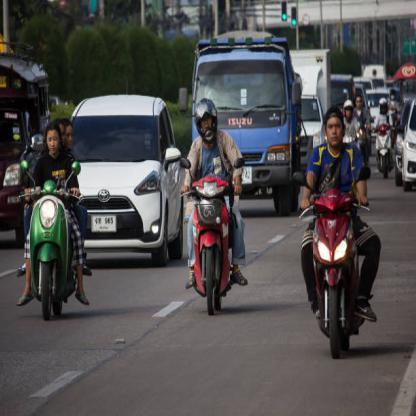Motorcycle: (288, 183, 368, 351), (182, 155, 237, 321), (22, 159, 80, 314)
